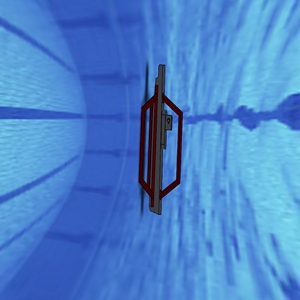submarine: (119, 56, 208, 234)
